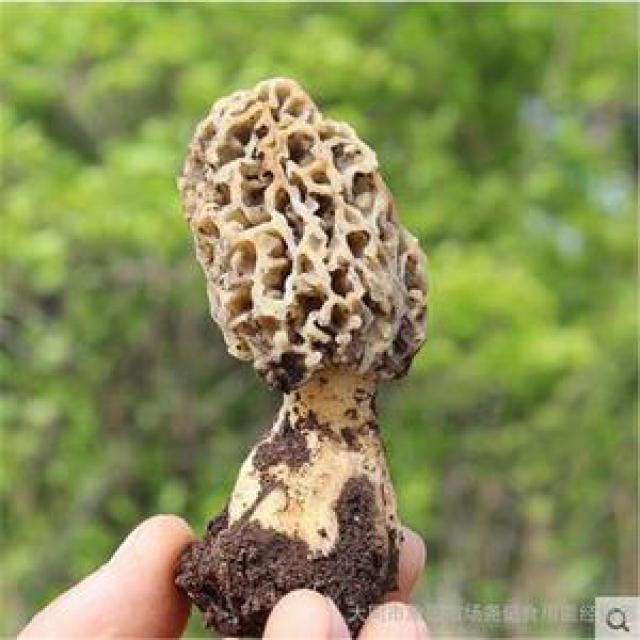Morchella esculenta: (181, 77, 428, 614)
